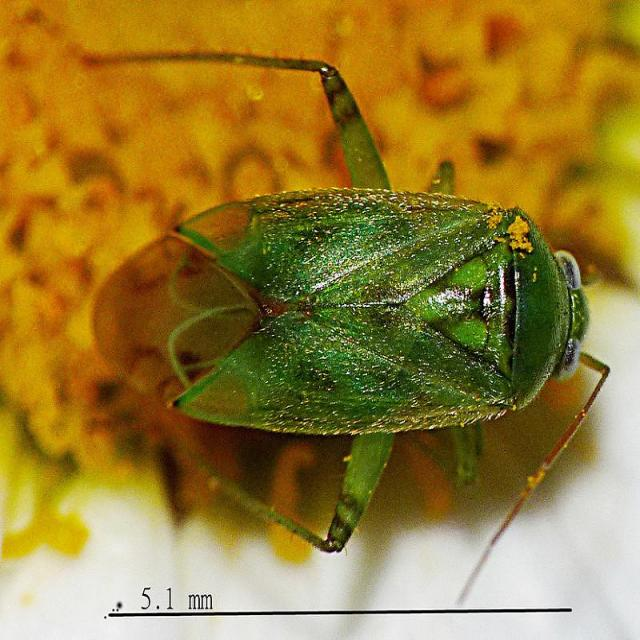Miridae-Adult-: (34, 30, 616, 578)
